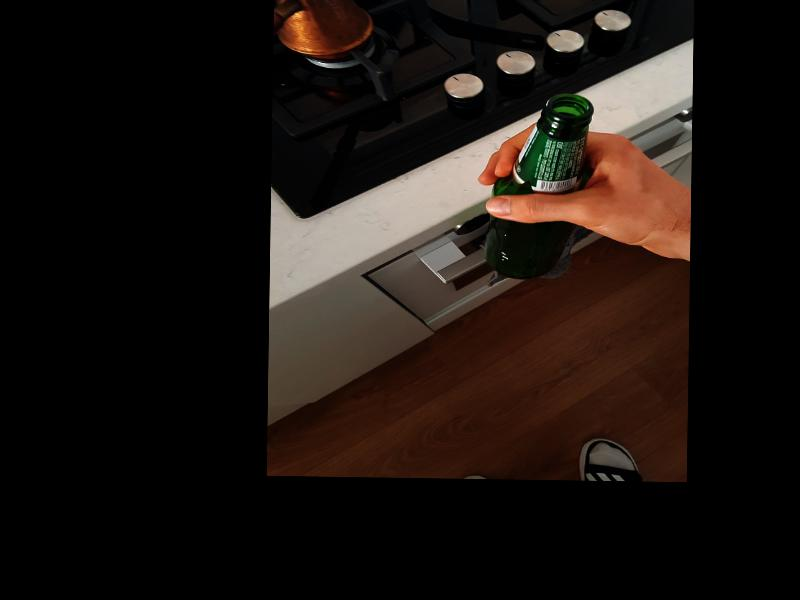Beer: (486, 92, 592, 280)
